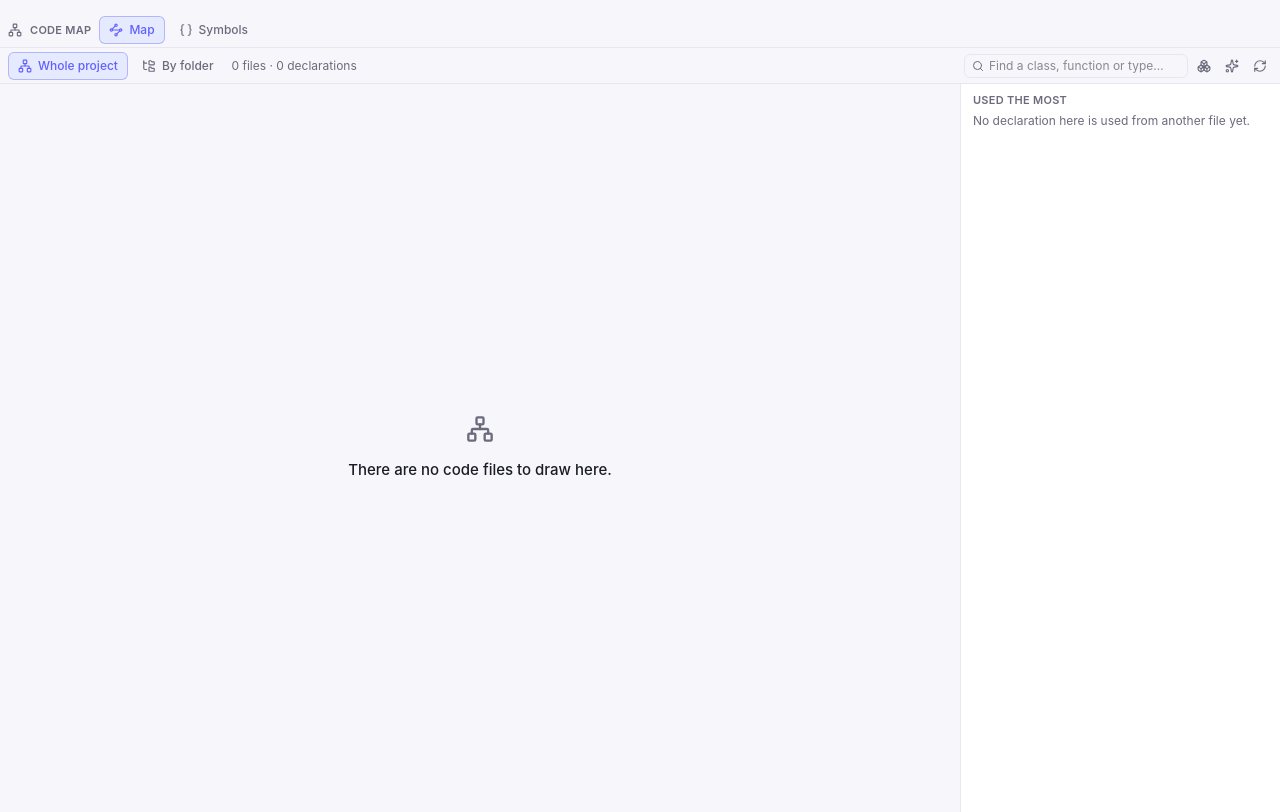
Test: CodemapView › opens on the drawn map, which needs no toolchain, and builds the symbols only when asked
This screenshot has width=1280, height=812.
Expected: the text "There are no code files to draw here." is shown, [348,459,612,481]
Click the tab "Symbols". click: (213, 30)
box: [169,16,258,44]
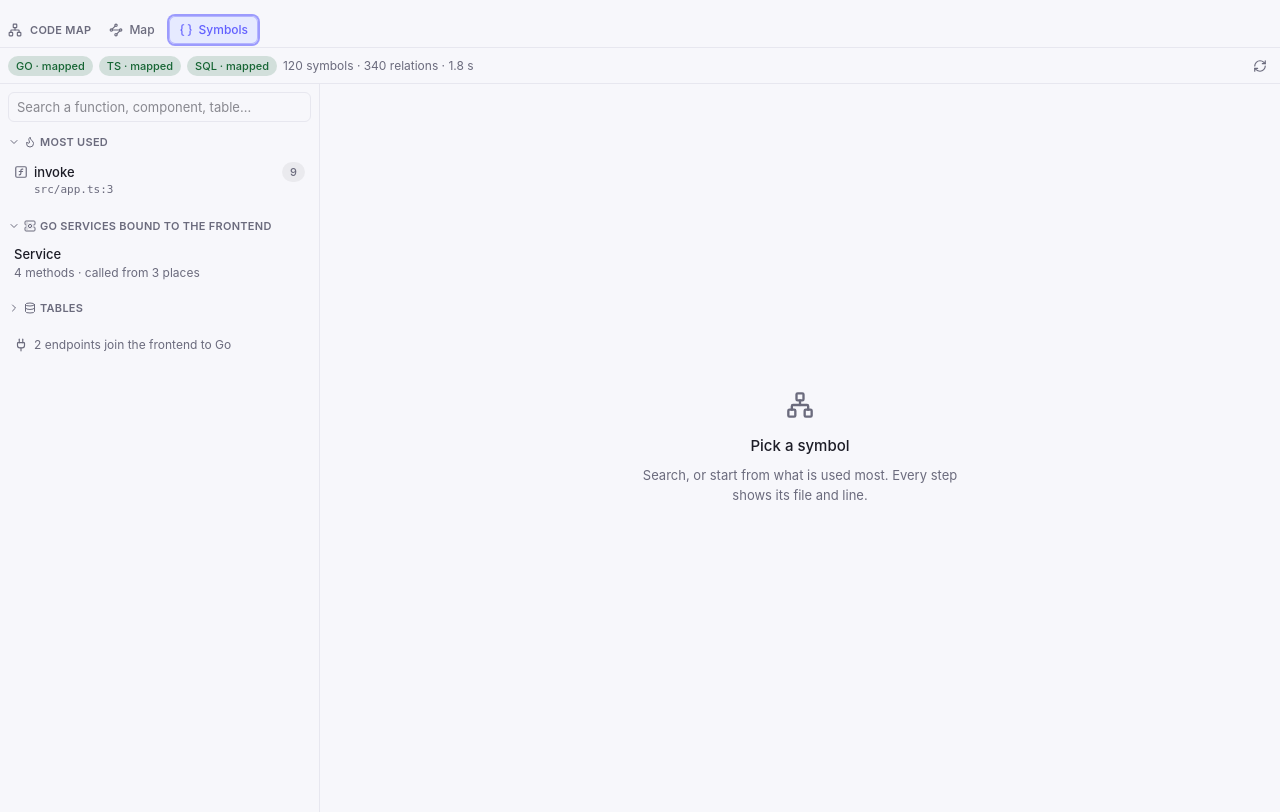
Expected: the button "Most used" is shown, [4,130,112,154]
